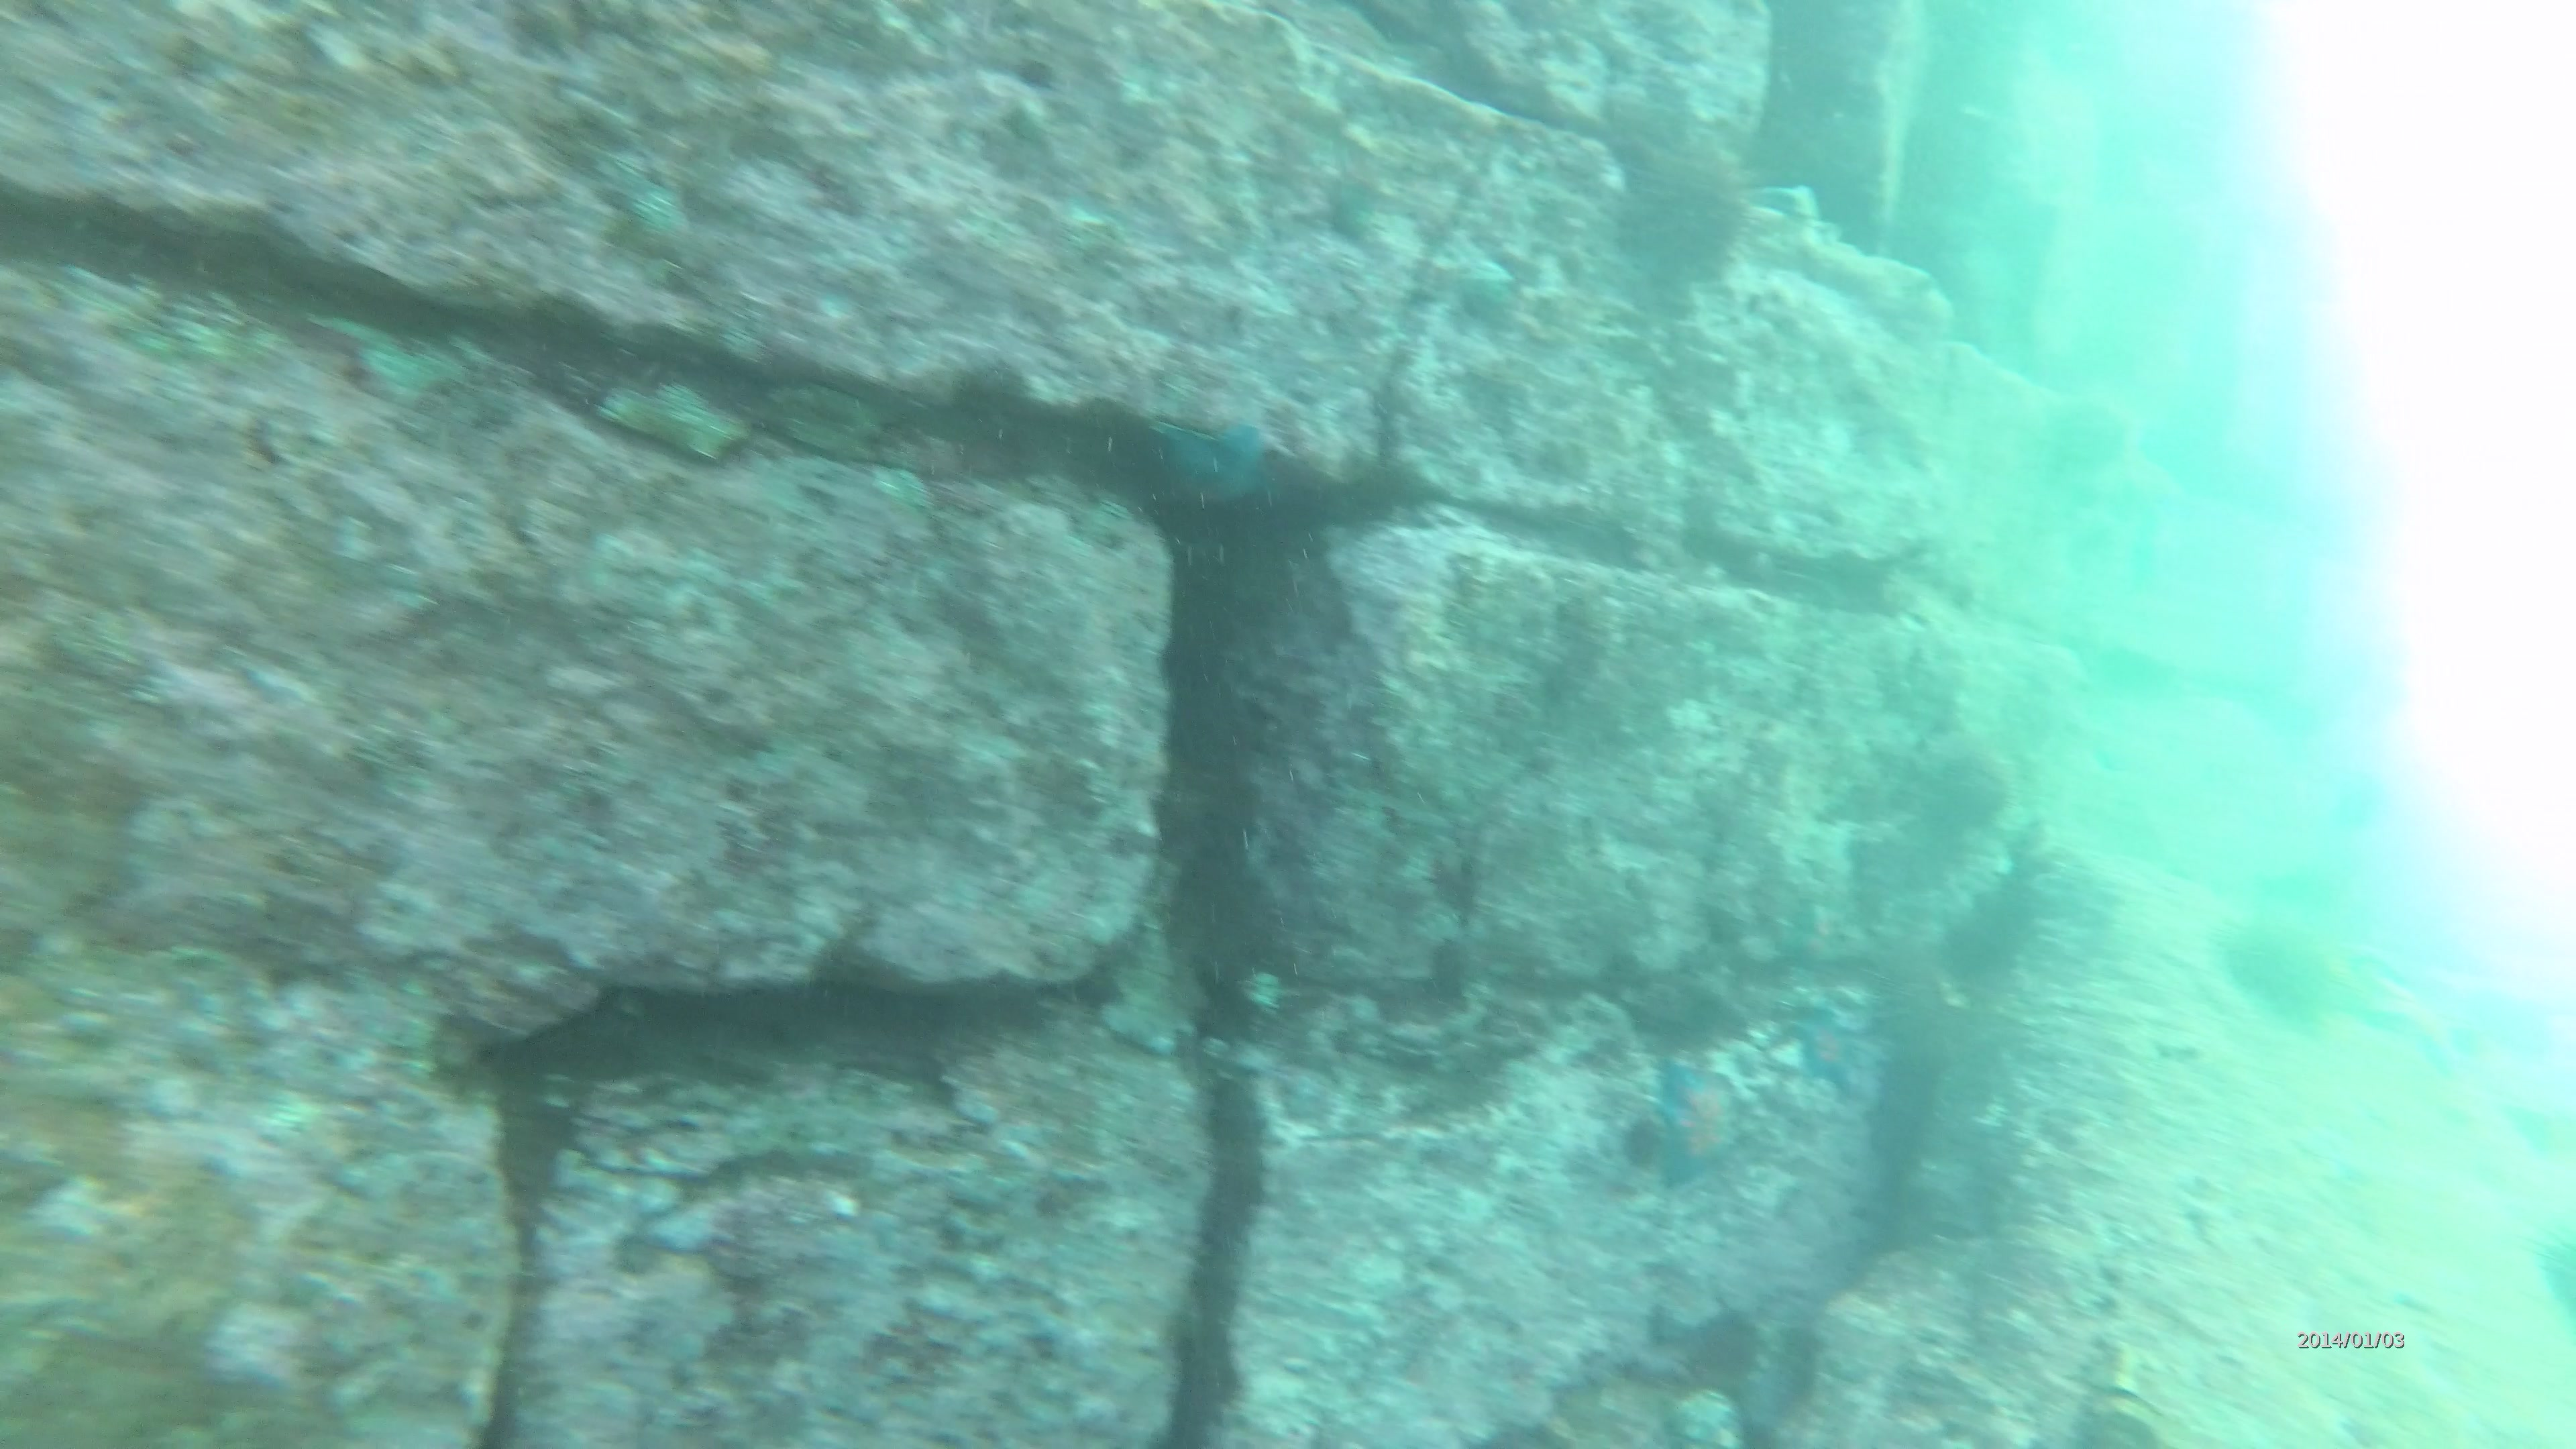echinus: (1619, 110, 1762, 281)
starfish: (1134, 395, 1283, 518), (1644, 1044, 1753, 1187), (1776, 991, 1881, 1104)
